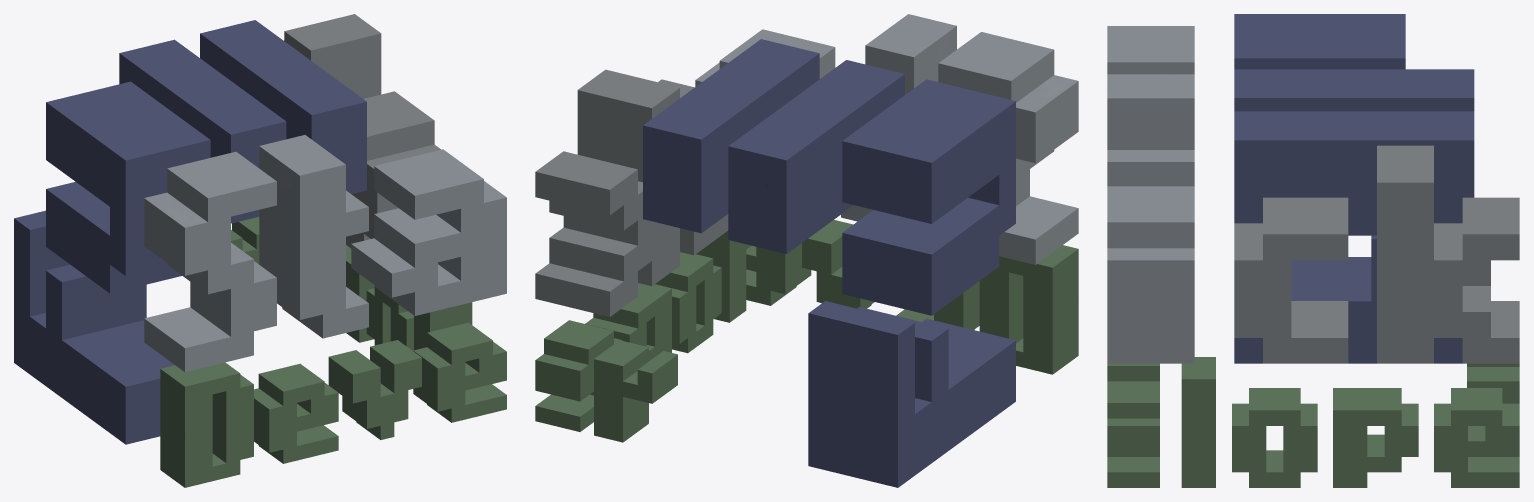
The model's file is scene-main.glb.
The picture shows the model from 3 angles, left to right: view 1: azimuth 30°, elevation 25°; view 2: azimuth 150°, elevation 25°; view 3: azimuth 270°, elevation 25°; orthographic projection. The views are drawn at different scales.
Visible parts, largest first — view 1: type.stack.sta, type.full.fu, type.developer.deve, type.full.ll, type.stack.ck, type.developer.lope, type.developer.r; view 2: type.full.fu, type.full.ll, type.stack.ck, type.stack.sta, type.developer.deve, type.developer.lope, type.developer.r; view 3: type.stack.ck, type.full.ll, type.stack.sta, type.developer.lope, type.full.fu, type.developer.deve, type.developer.r.
Part boxes in pixels (left/top/right/bottom): type.stack.sta: left=144, top=135, right=506, bottom=371; type.full.fu: left=14, top=81, right=210, bottom=444; type.developer.deve: left=160, top=322, right=506, bottom=487; type.full.ll: left=119, top=20, right=366, bottom=223; type.stack.ck: left=284, top=14, right=440, bottom=248; type.developer.lope: left=346, top=245, right=472, bottom=350; type.developer.r: left=231, top=217, right=259, bottom=264; type.full.fu: left=808, top=79, right=1015, bottom=487; type.full.ll: left=643, top=39, right=904, bottom=253; type.stack.ck: left=535, top=69, right=728, bottom=316; type.stack.sta: left=695, top=14, right=1078, bottom=264; type.developer.deve: left=746, top=220, right=1078, bottom=374; type.developer.lope: left=535, top=231, right=746, bottom=431; type.developer.r: left=594, top=340, right=677, bottom=442; type.stack.ck: left=1234, top=145, right=1519, bottom=363; type.full.ll: left=1234, top=69, right=1474, bottom=235; type.stack.sta: left=1107, top=26, right=1194, bottom=363; type.developer.lope: left=1181, top=357, right=1519, bottom=487; type.full.fu: left=1234, top=14, right=1462, bottom=363; type.developer.deve: left=1107, top=363, right=1159, bottom=487; type.developer.r: left=1467, top=363, right=1519, bottom=403.
Bounding box in the file's own units: 1.99 × 1.68 × 2.05.
7 materials, 7 textured.
